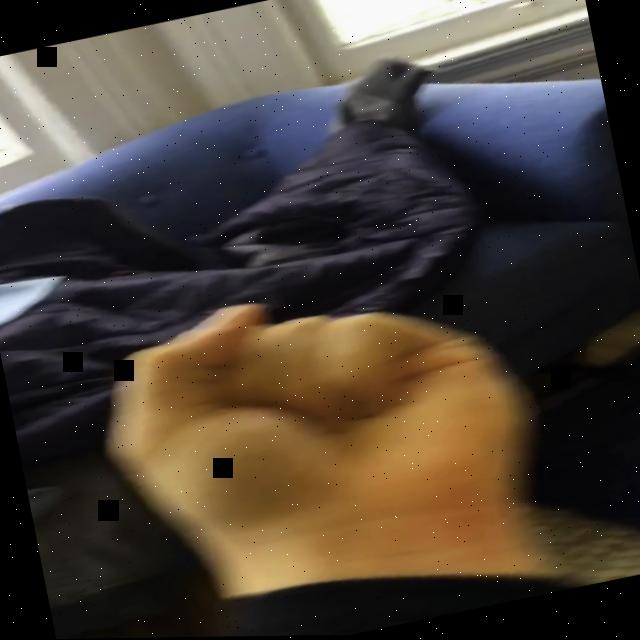Rock: (82, 248, 539, 586)
